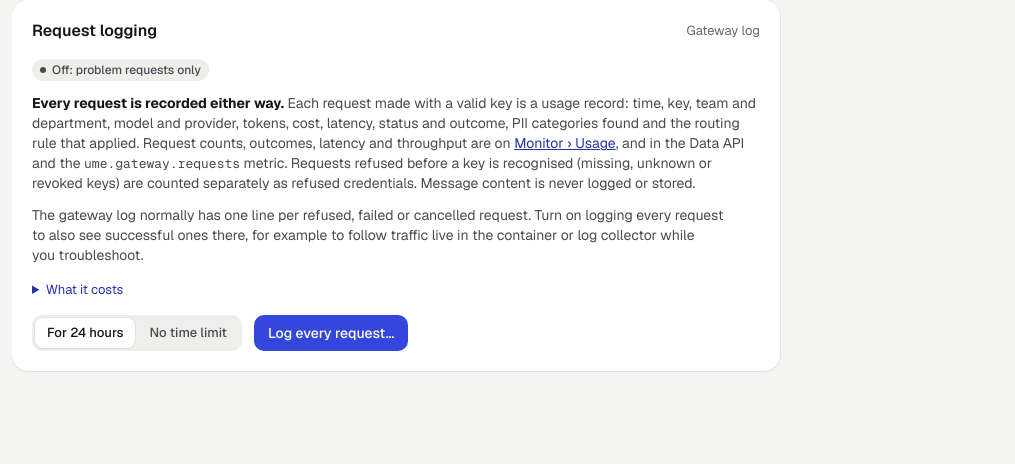
it: RequestLogCard › turns on for 24 hours after confirming the cost
Click the button "Log every request…" at (331, 333), box left=254, top=315, right=408, bottom=351
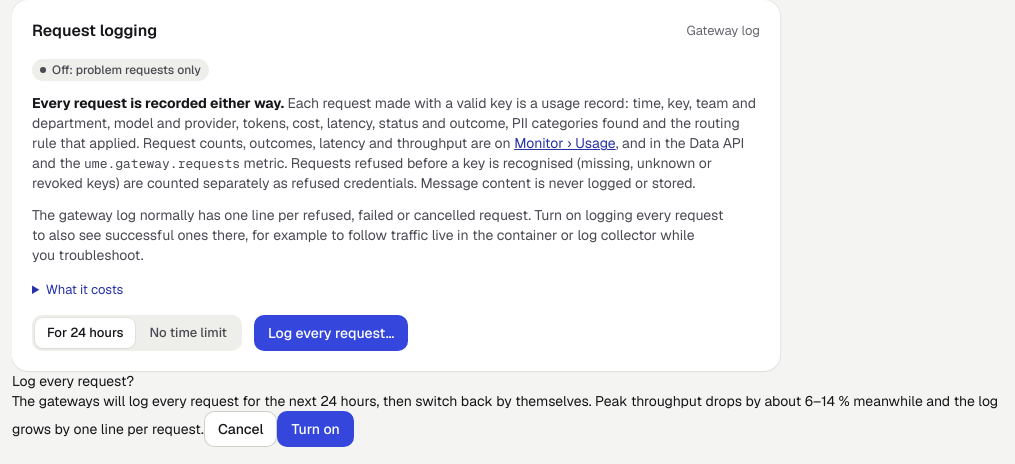
Expected: the text "for the next 24 hours" is shown, left=12, top=392, right=998, bottom=438
Expected: the text "6–14 %" is shown, left=12, top=392, right=998, bottom=438
Click the button "Turn on" at (316, 429), box left=278, top=411, right=354, bottom=447
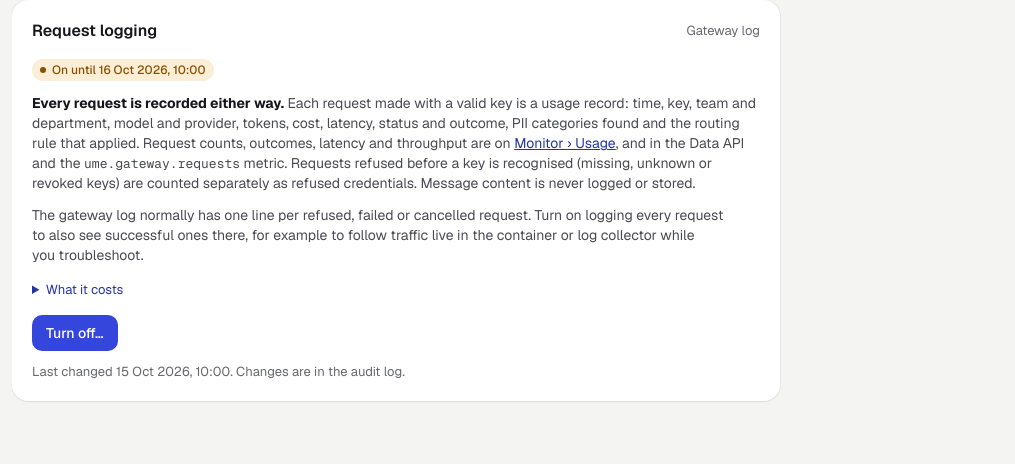
Expected: the text "On until" is shown, left=52, top=62, right=206, bottom=78
